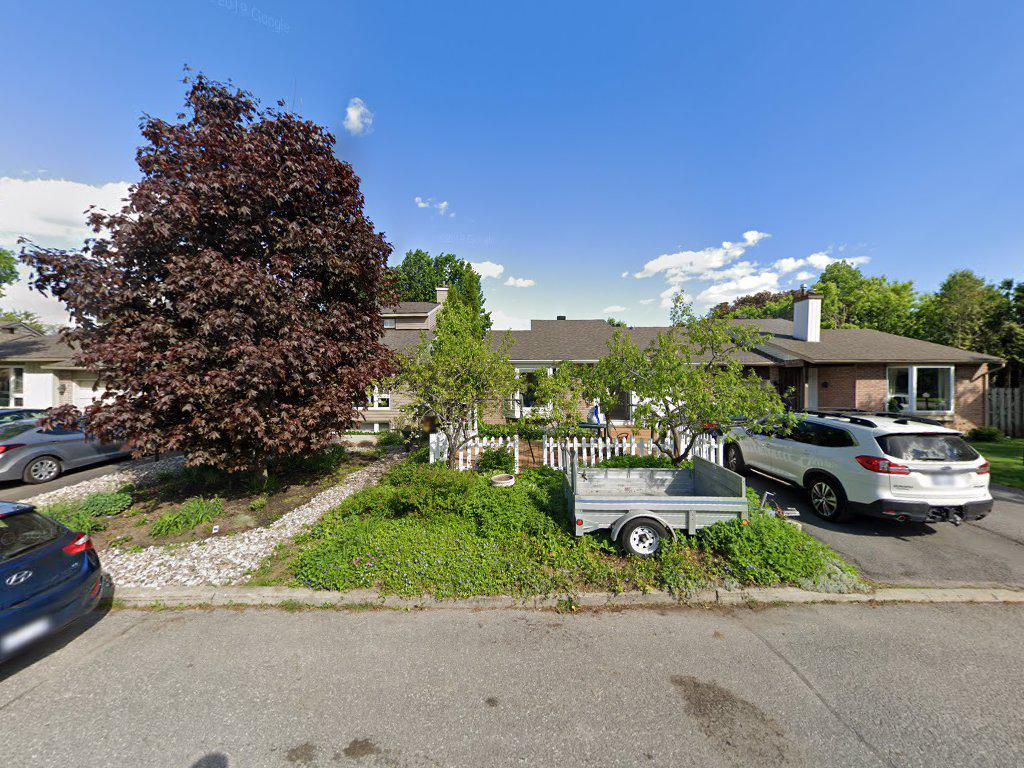trunk: (444, 423, 463, 470)
